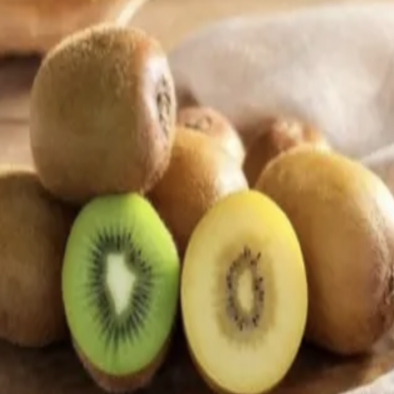kiwi: (244, 111, 394, 386), (18, 18, 188, 197)
